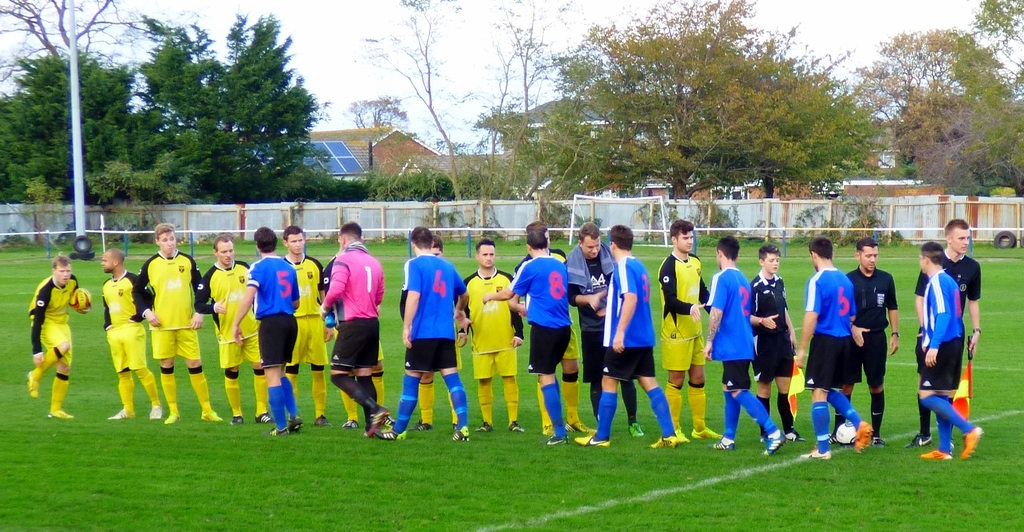Ball: (838, 423, 857, 444)
